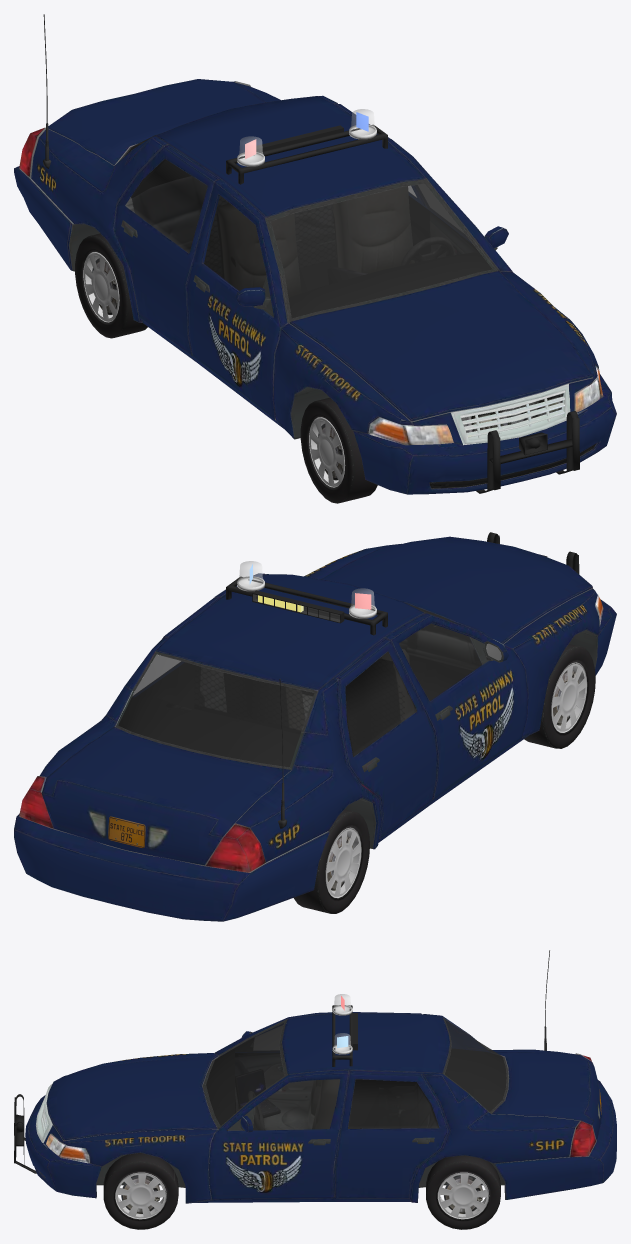
The model's file is highway-patrol-cruiser-3d85e6.glb.
3 views of the same model, one above another, from view 1: azimuth 30°, elevation 25°; view 2: azimuth 150°, elevation 25°; view 3: azimuth 270°, elevation 25° (orthographic). The views are drawn at different scales.
Parts seen in each view (by area): view 1: body, wheel-front-right, wheel-back-right; view 2: body, wheel-back-right, wheel-front-right; view 3: body, wheel-front-left, wheel-back-left.
Boxes of the visible parts, x1=… form: body: x1=14, y1=14, x2=616, y2=494; wheel-front-right: x1=300, y1=397, x2=377, y2=503; wheel-back-right: x1=75, y1=233, x2=147, y2=338; body: x1=14, y1=532, x2=616, y2=921; wheel-back-right: x1=294, y1=809, x2=369, y2=913; wheel-front-right: x1=524, y1=644, x2=595, y2=748; body: x1=14, y1=950, x2=616, y2=1203; wheel-front-left: x1=103, y1=1153, x2=178, y2=1229; wheel-back-left: x1=426, y1=1155, x2=500, y2=1229.
Bounding box in the file's own units: 2.5 × 2.42 × 6.73.
19 materials, 5 textured.
